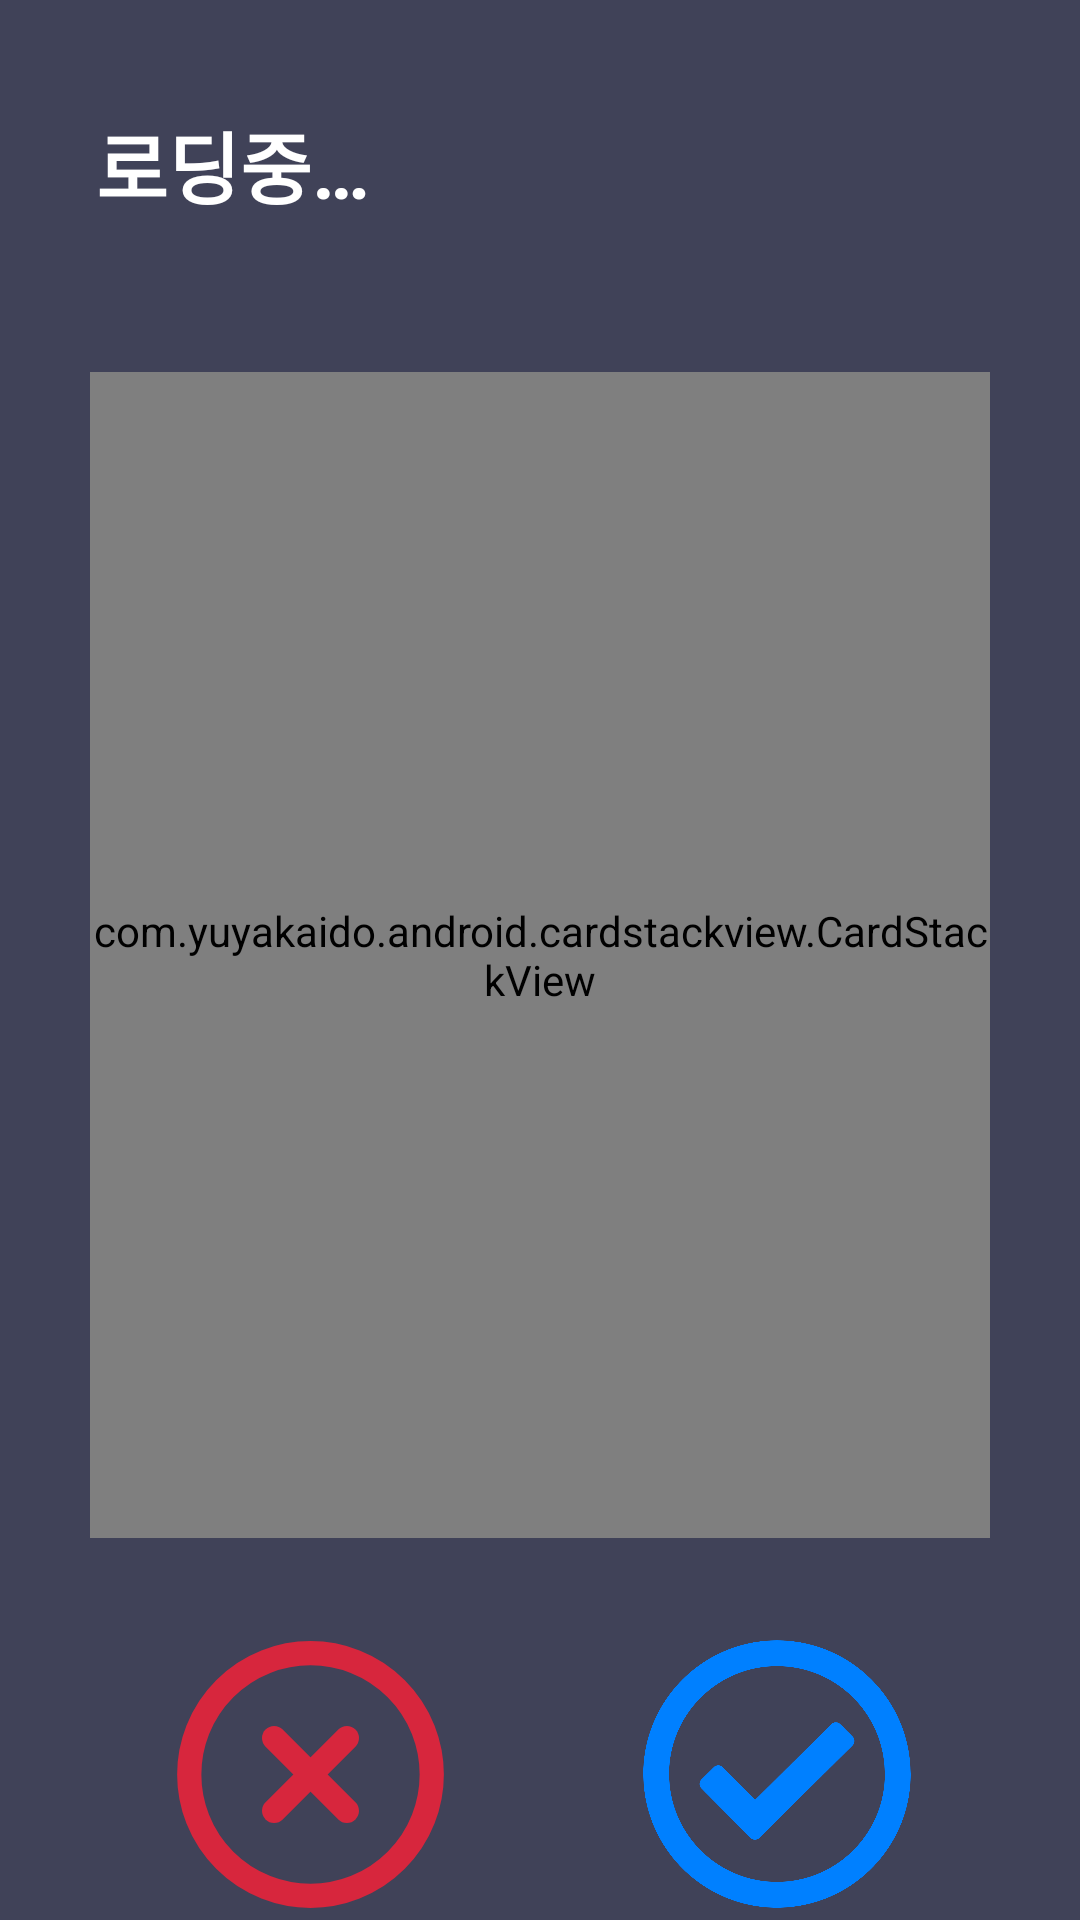

Icons on this 1080×1920 Android screen, each with the point to tap as (x,y):
check circle: (777,1774)
